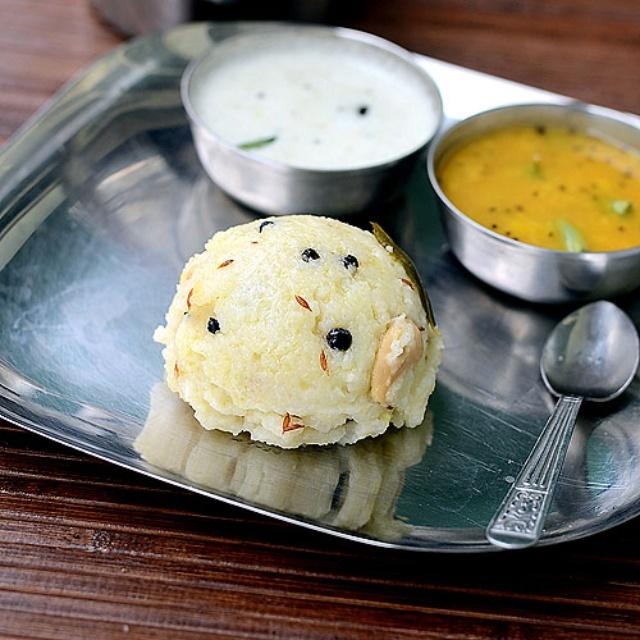PONGAL: (166, 215, 441, 446)
SAMBAR: (437, 119, 638, 247)
WHITE CHUTNEY: (204, 46, 434, 171)
